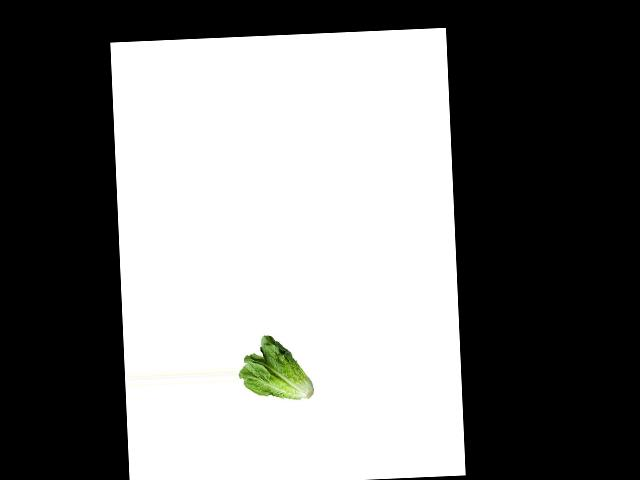lettuce: (235, 331, 314, 404)
